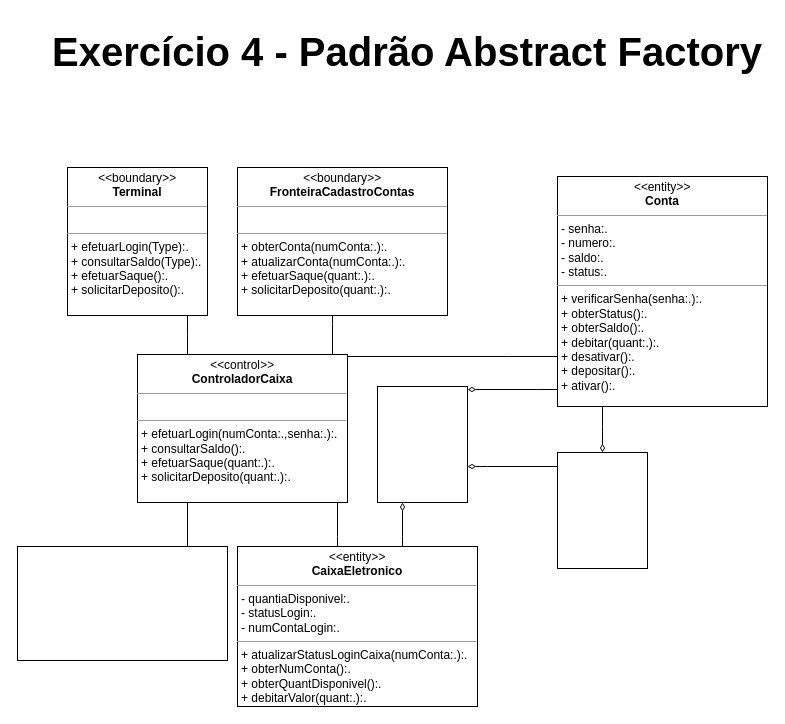
Some shapes in this 785 by 724 pixel diagram are drawn without their labels. The shapes that lost their labels are listed below. From the top down, each one's box as (x1, y1, x2, y2) in pixels, then its label:
(376, 386, 468, 502): << entity >> Banco - cod:. - nome:.
(556, 452, 648, 568): << entity >> FichaCliente - nome:. - RG:. - CPF:.
(16, 546, 228, 660): << boundary >> FronteiraDispensadorNotas + liberarQuantia(quant:.):.
